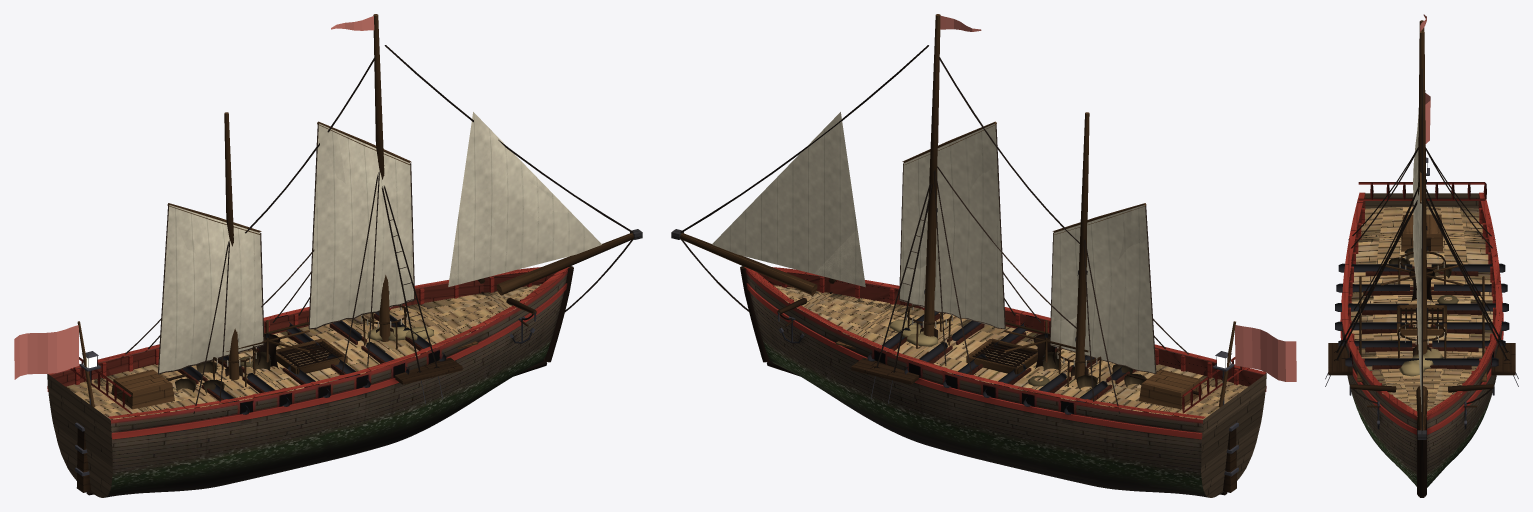
Rendered from lugger.glb.
3 views of the same model, side by side, from view 1: azimuth 30°, elevation 25°; view 2: azimuth 150°, elevation 25°; view 3: azimuth 270°, elevation 25° (orthographic).
Parts seen in each view (by area): view 1: LOD0_Body, LOD0_Wood, LOD0_m0_AftSail, LOD0_Jib, LOD0_m1_AftSail, LOD2_Body, LOD2_Wood, LOD1_Wood, LOD0_Flag, LOD1_Body, LOD1_Jib, LOD1_m0_AftSail (+5 smaller); view 2: LOD0_Body, LOD0_Wood, LOD2_m0_AftSail, LOD2_Jib, LOD2_m1_AftSail, LOD2_Body, LOD2_Wood, LOD1_Wood, LOD0_Flag, LOD1_Body, LOD0_m0_AftSail, LOD1_Jib (+4 smaller); view 3: LOD0_Wood, LOD0_Body, LOD2_Body, LOD2_Wood, LOD1_Body, LOD1_Wood, LOD0_Jib, LOD0_m0_AftSail, LOD0_Flag, LOD0_m1_AftSail.
Boxes of the visible parts, x1,y1,x2,y2 form: LOD0_Body: [47, 269, 568, 497]; LOD0_Wood: [47, 14, 642, 497]; LOD0_m0_AftSail: [309, 138, 413, 328]; LOD0_Jib: [448, 112, 592, 286]; LOD0_m1_AftSail: [159, 208, 262, 373]; LOD2_Body: [48, 269, 567, 495]; LOD2_Wood: [49, 20, 630, 482]; LOD1_Wood: [48, 14, 632, 497]; LOD0_Flag: [14, 16, 374, 379]; LOD1_Body: [94, 271, 566, 496]; LOD1_Jib: [449, 116, 601, 286]; LOD1_m0_AftSail: [312, 125, 413, 323]; LOD0_Body: [745, 208, 1266, 497]; LOD0_Wood: [671, 14, 1266, 497]; LOD2_m0_AftSail: [900, 132, 1004, 329]; LOD2_Jib: [712, 112, 864, 285]; LOD2_m1_AftSail: [1051, 212, 1154, 372]; LOD2_Body: [746, 269, 1266, 495]; LOD2_Wood: [681, 34, 1265, 477]; LOD1_Wood: [681, 14, 1265, 497]; LOD0_Flag: [940, 15, 1296, 381]; LOD1_Body: [747, 271, 1219, 496]; LOD0_m0_AftSail: [900, 123, 997, 317]; LOD1_Jib: [814, 228, 865, 286]; LOD0_Wood: [1328, 20, 1515, 497]; LOD0_Body: [1325, 157, 1518, 486]; LOD2_Body: [1344, 206, 1499, 487]; LOD2_Wood: [1342, 20, 1502, 496]; LOD1_Body: [1342, 229, 1502, 486]; LOD1_Wood: [1342, 29, 1502, 497]; LOD0_Jib: [1416, 201, 1421, 362]; LOD0_m0_AftSail: [1413, 163, 1421, 287]; LOD0_Flag: [1420, 14, 1430, 143]; LOD0_m1_AftSail: [1413, 124, 1418, 204].
Bounding box in the file's own units: 21.85 × 14.13 × 5.98.
5 materials, 3 textured.
